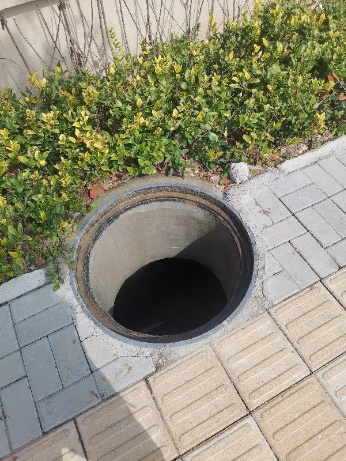lose: (70, 182, 260, 349)
